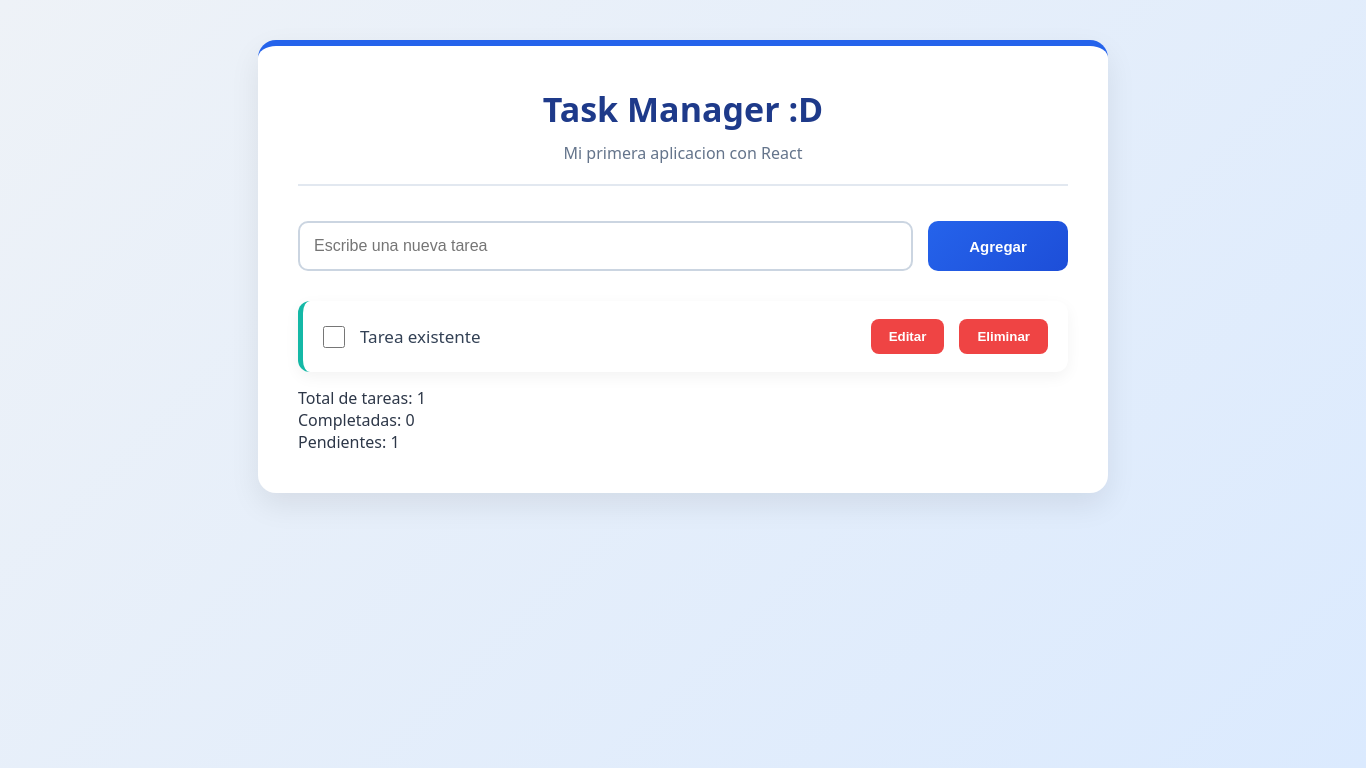
App › agrega una tarea nueva a la lista
Expected: the text "Tarea existente" is shown, [360,325,481,348]
Type "Tarea nueva" into the field labelled "nueva tarea" at [606, 246], box [298,221,913,271]
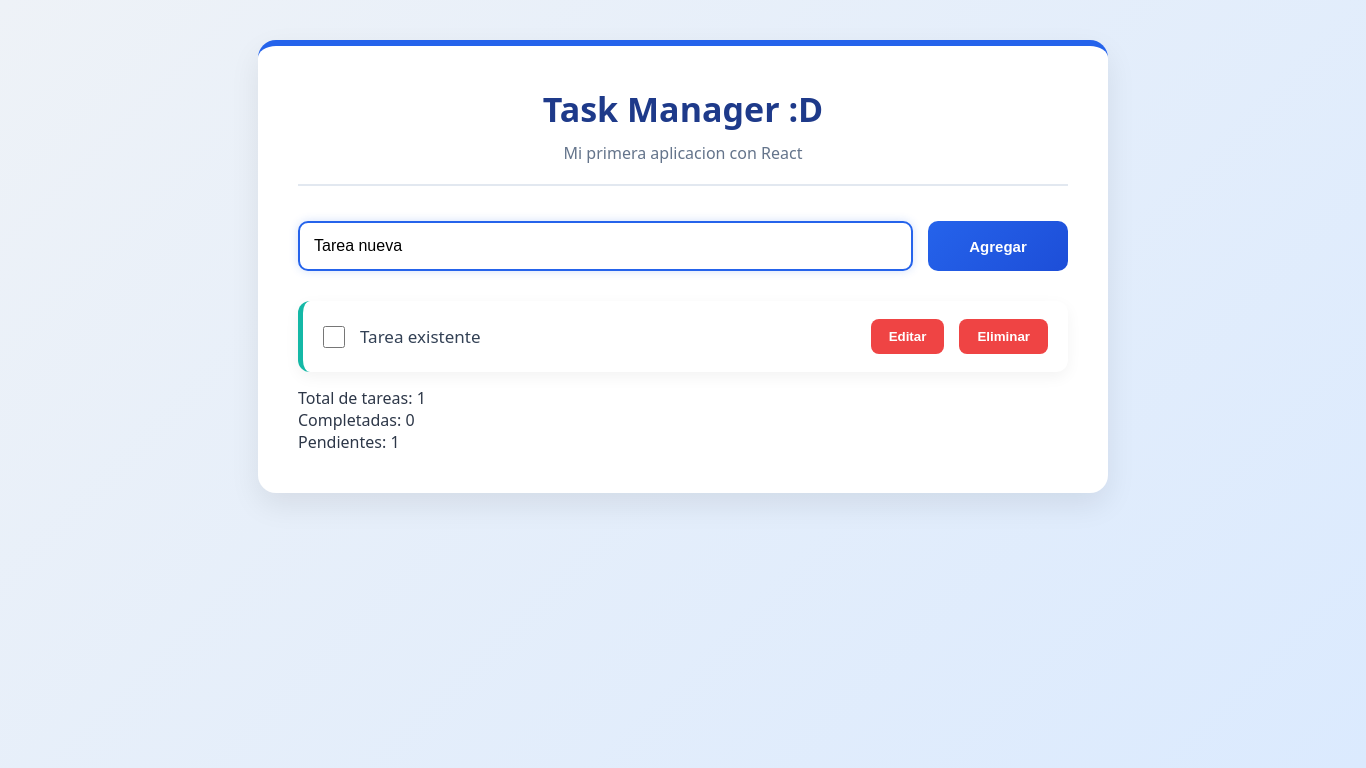
Click the button "Agregar" at [998, 246], box [928,221,1068,271]
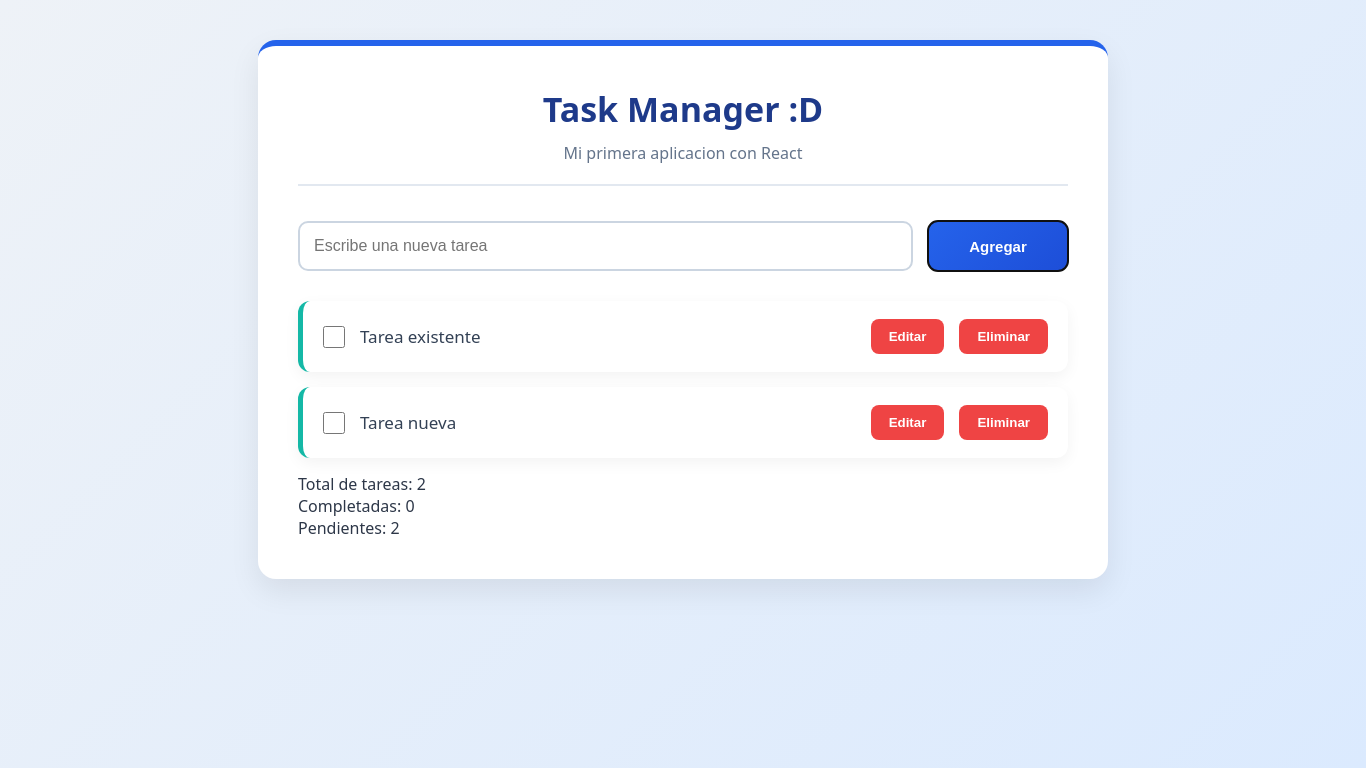
Expected: the text "Tarea nueva" is shown, [360,411,456,434]
